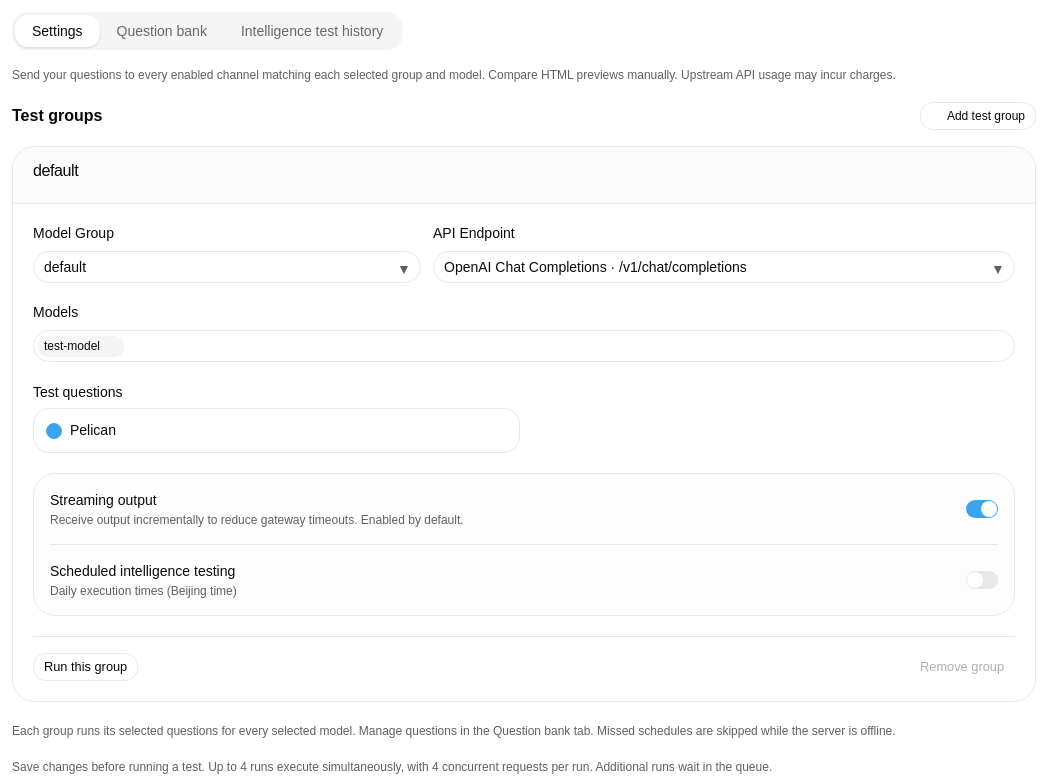
it: shows group options in server order with a legacy fallback (["vip","default","other"])
The width and height of the screenshot is (1048, 780).
Step 1. Click the dropdown named "Model Group" → (65, 267), box [33,251,421,283]
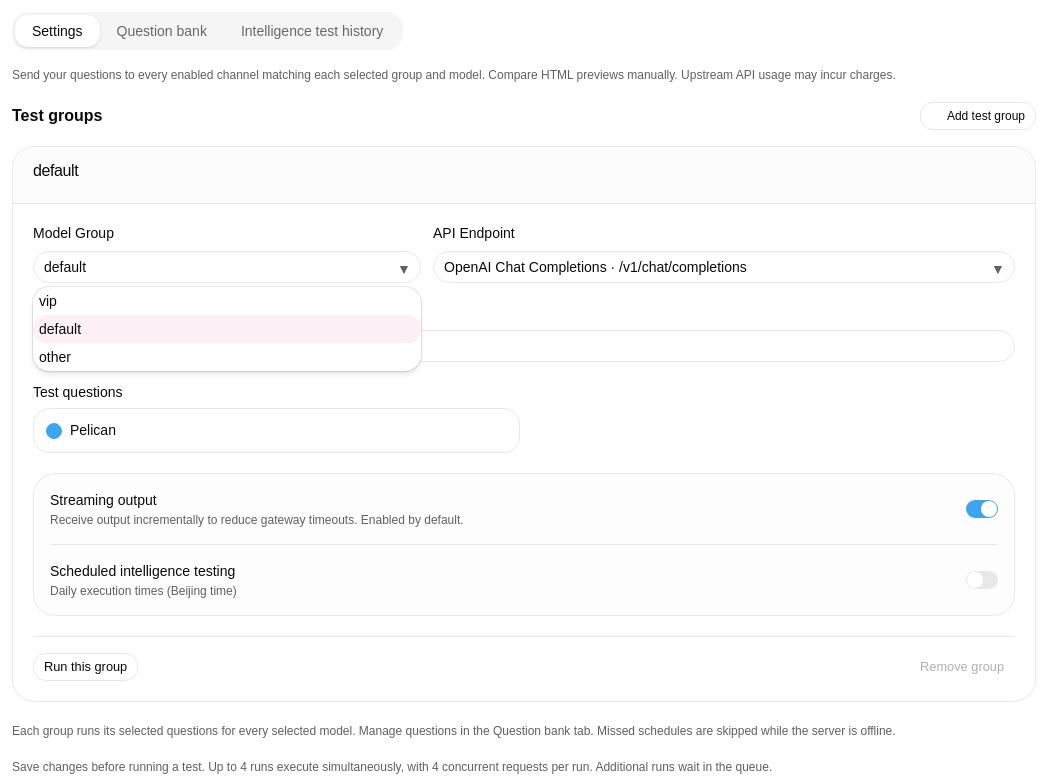
Expected: the options read "vip", "default", "other", in this order
Step 2. Click the option "vip" → (48, 301), box [39,293,57,309]
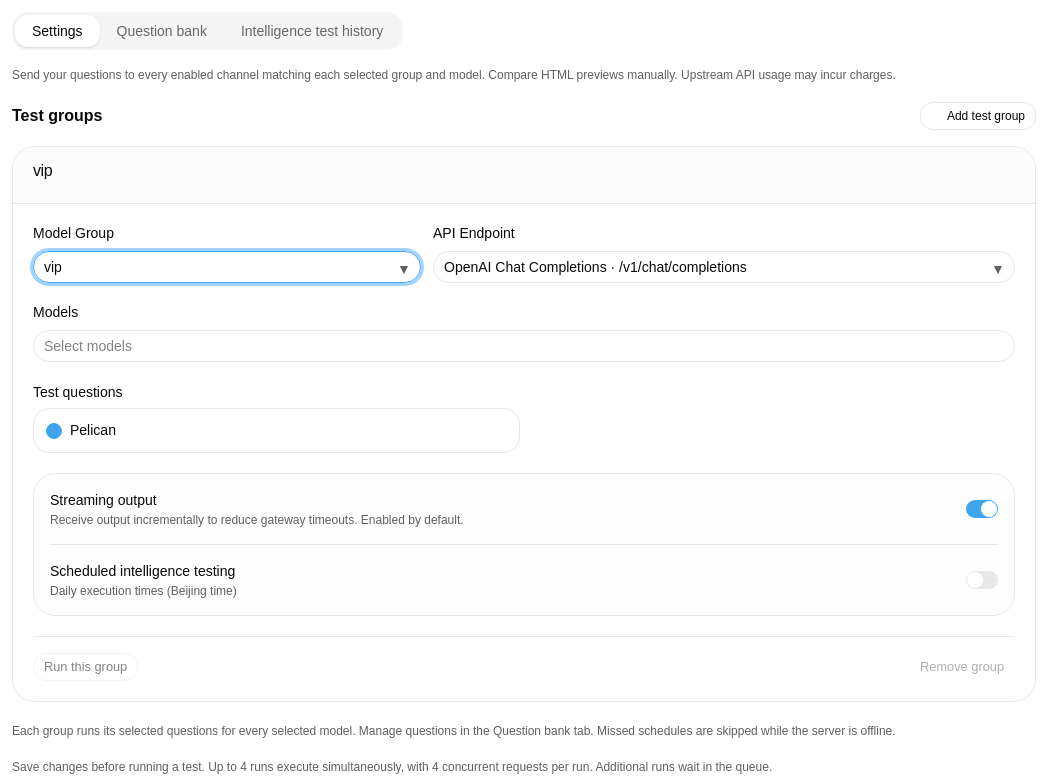
Expected: the dropdown named "Model Group" shows "vip", [33,251,421,283]
